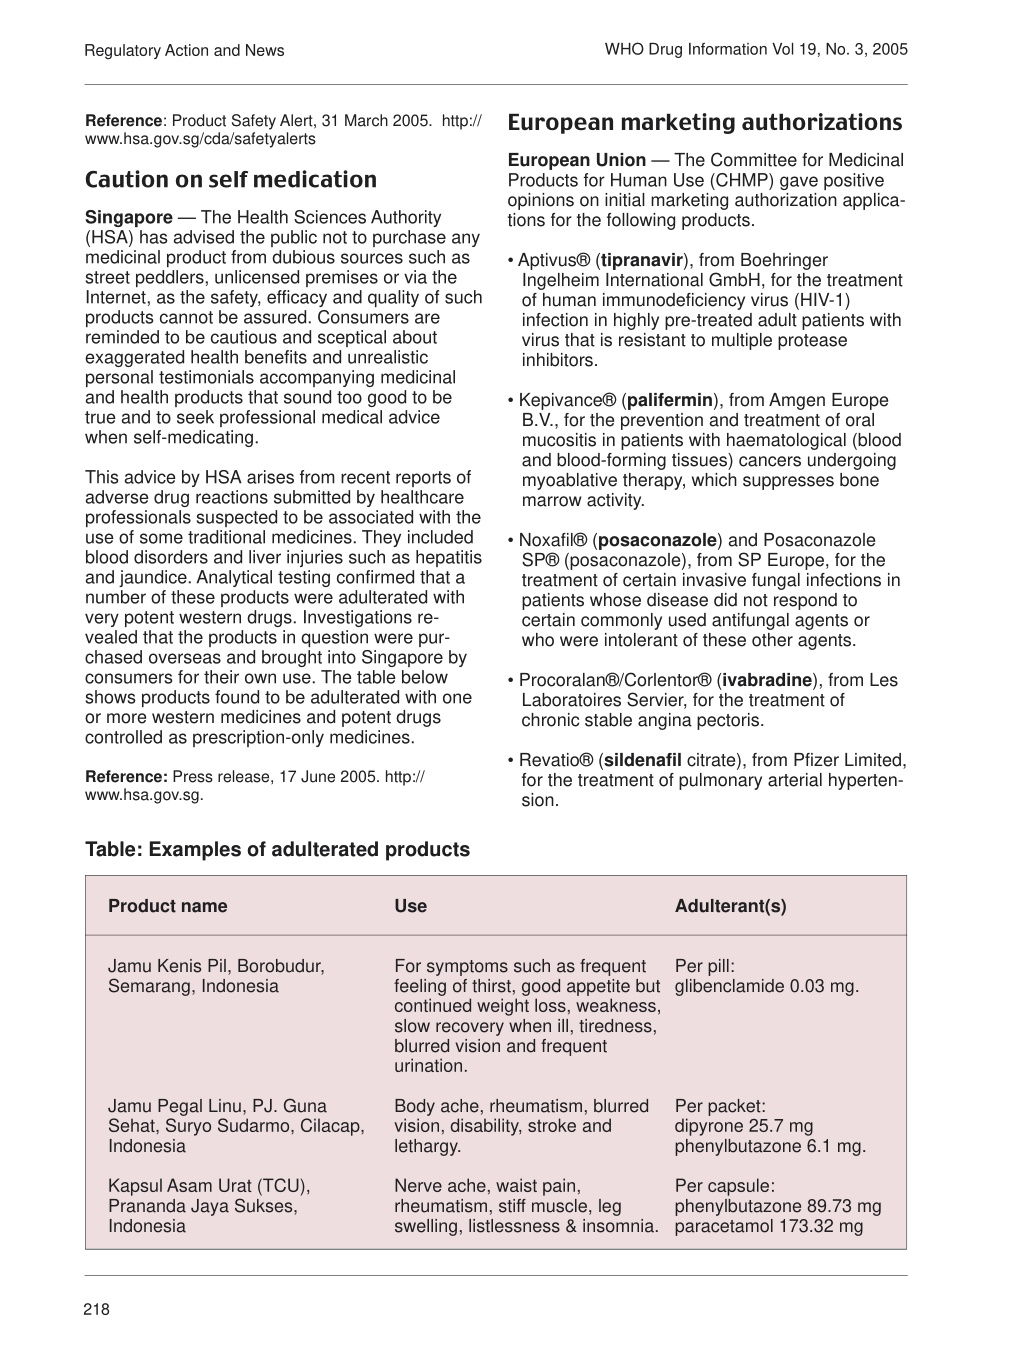partial_lined: (82, 874, 910, 1252)
